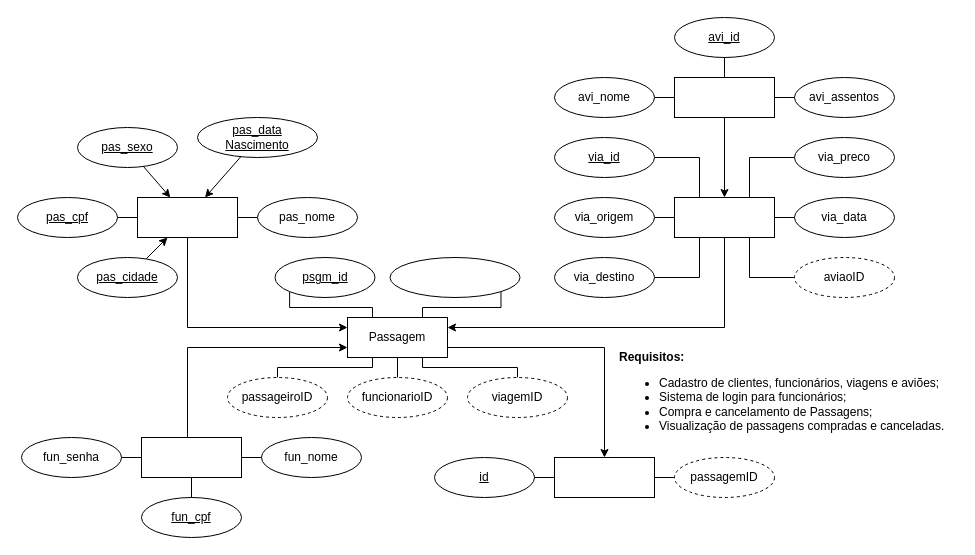
The diagram is 975 pixels wide and 555 high, and some of its shapes have lost their labels. Here are the shapes that lost their labels. From the top down, the centre of each, then its label:
(x=724, y=97): Avião
(x=187, y=217): Passageiro
(x=724, y=217): Viagem
(x=454, y=277): psgm_NumeroAssento
(x=191, y=457): Funcionário
(x=604, y=477): Cancelamento
